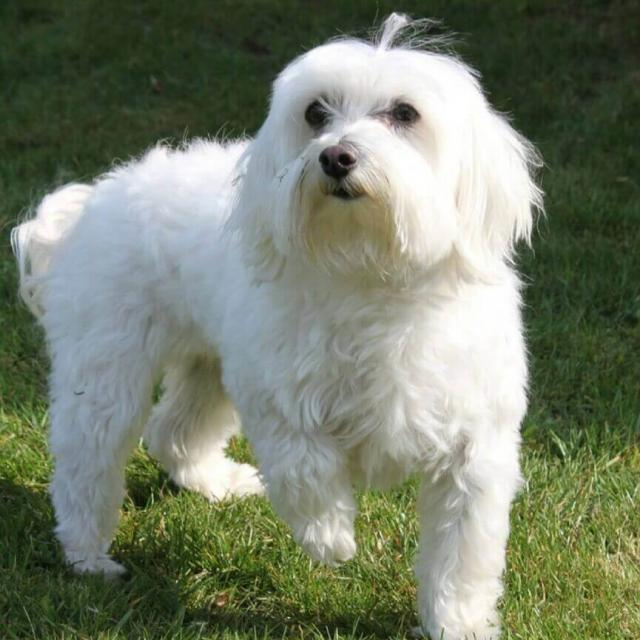maltese: (10, 8, 538, 640)
